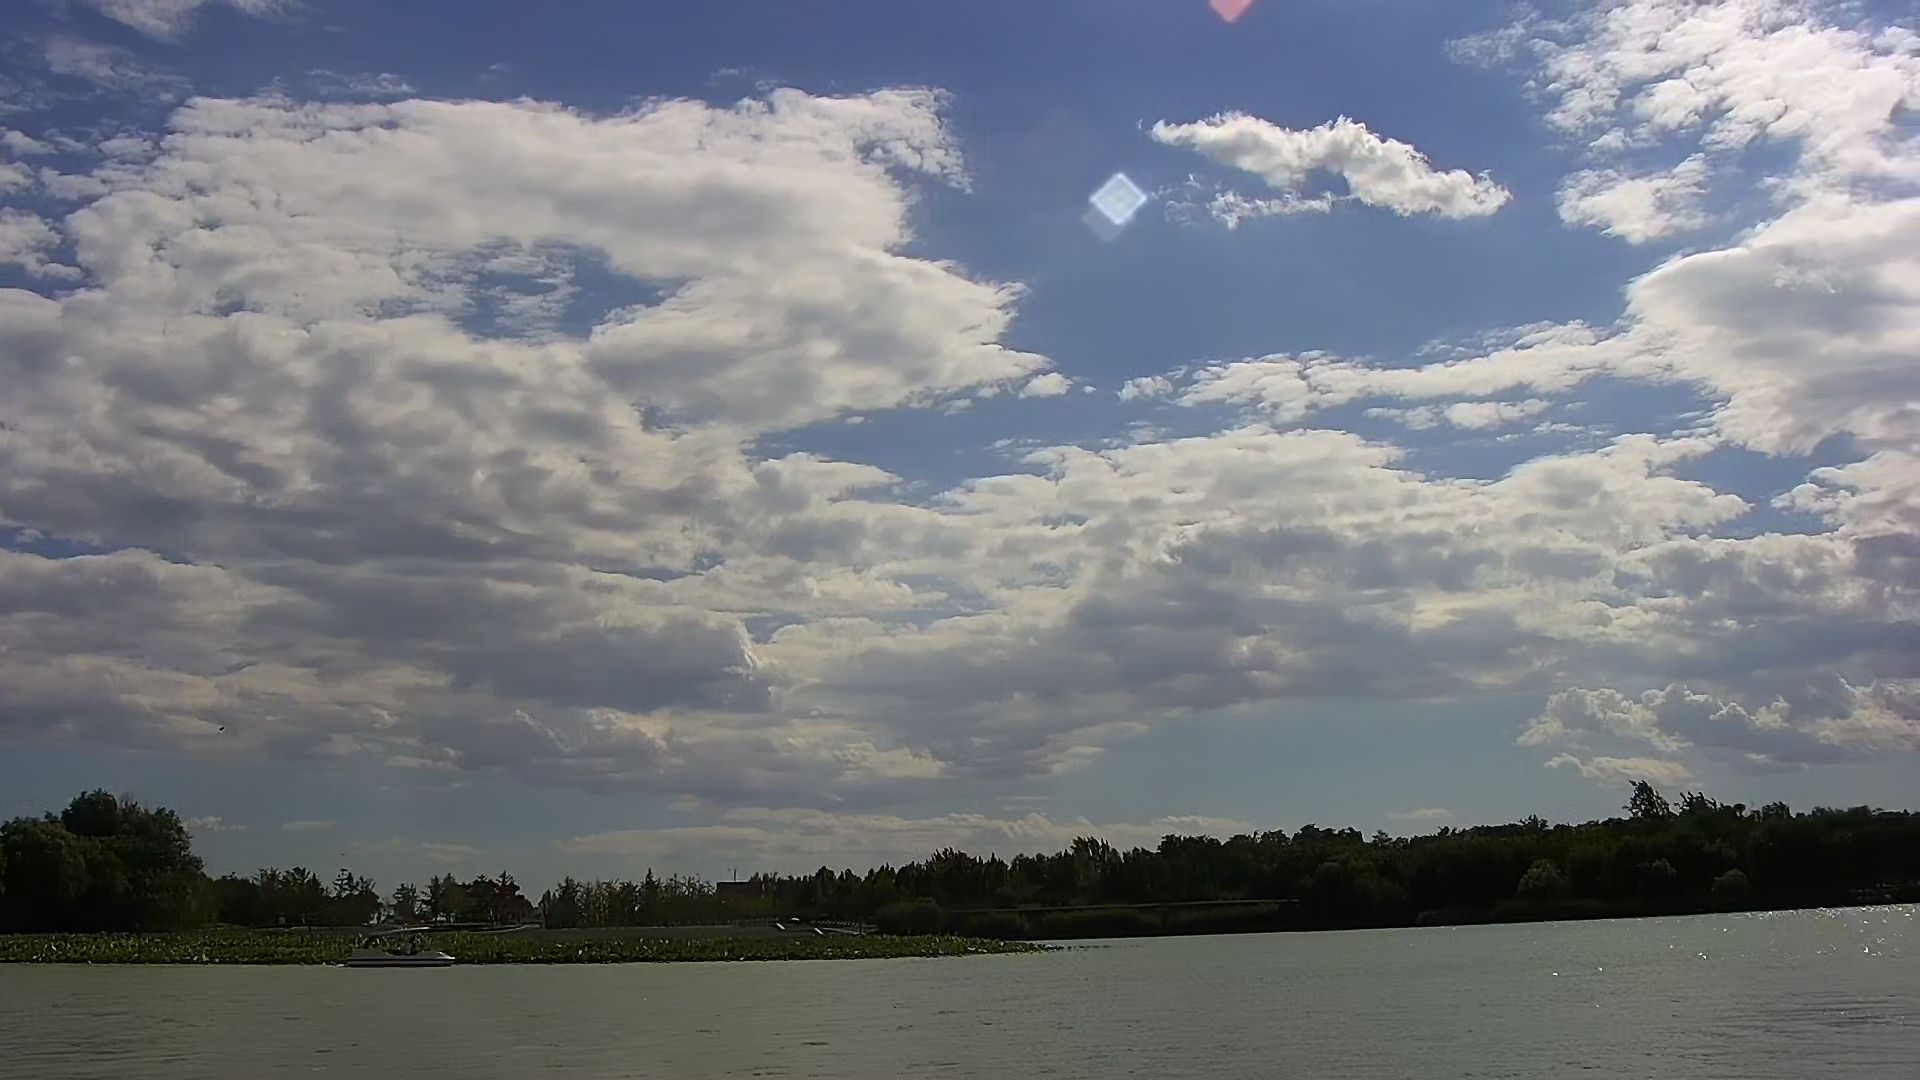boat: (344, 914, 465, 975)
